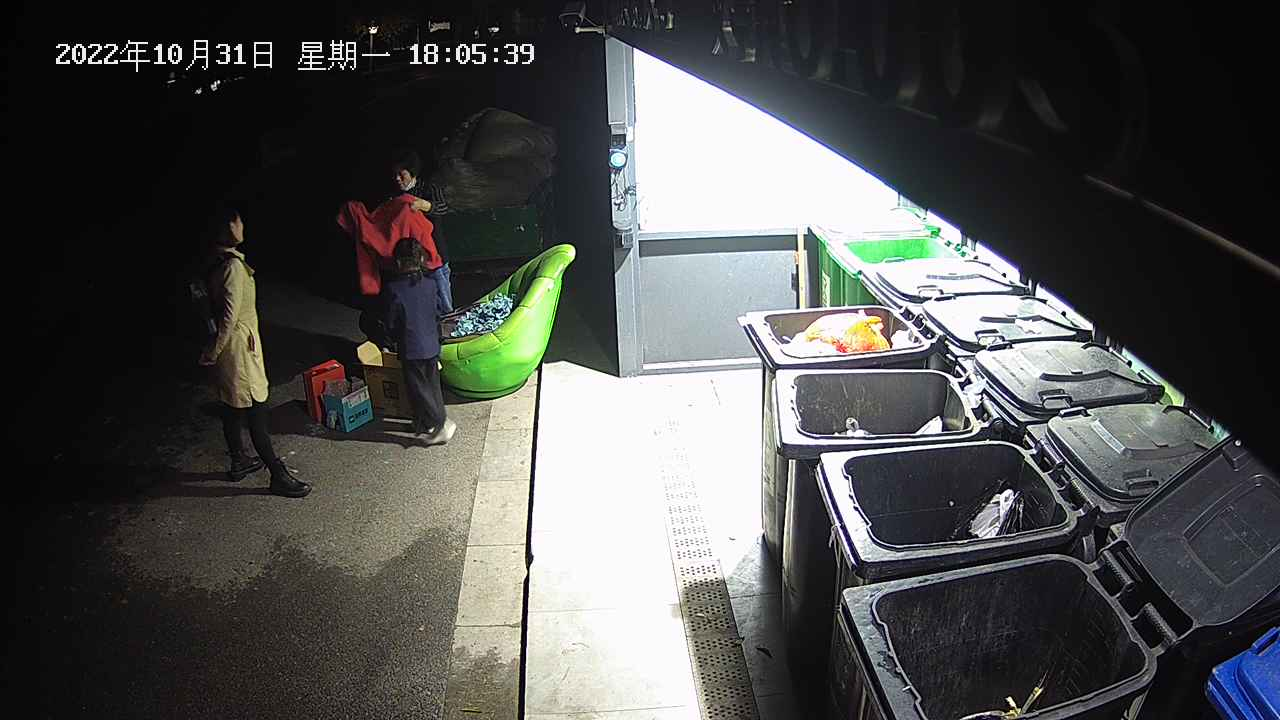person: (186, 202, 313, 498), (334, 147, 455, 350), (382, 235, 458, 445)
zhizhipin: (300, 356, 376, 434), (357, 341, 414, 418)
